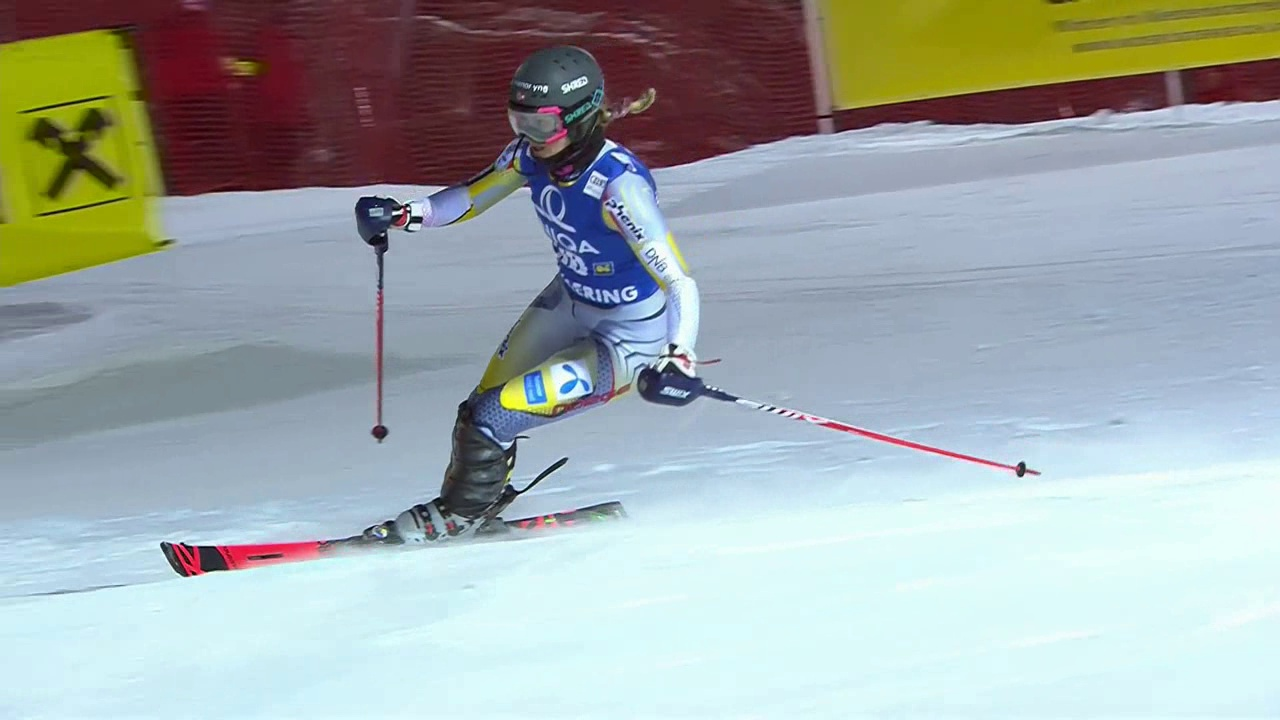raiffeisen: (21, 99, 125, 219)
